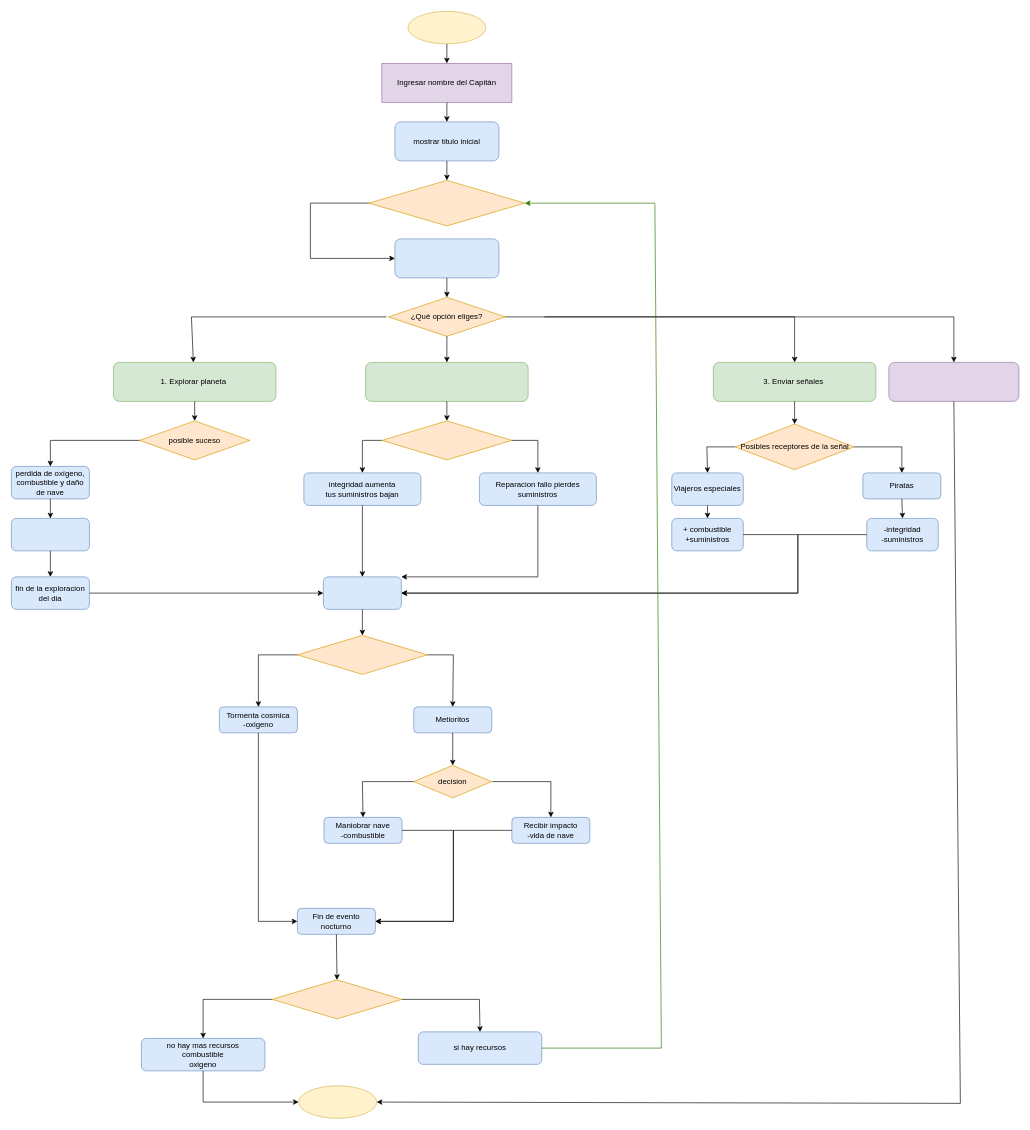
The diagram is 1030 pixels wide and 1130 high, and some of its shapes have lost their labels. Here are the shapes that lost their labels. From the top down, the centre of each, then its label:
the point at 446,27: Inicio
the point at 446,203: ¿día ≤ 10 y recursos > 0?
the point at 446,258: Mostrar menu principal
the point at 446,381: 2. Reparar nave
the point at 953,381: 4. Rendirse
the point at 446,440: Reparar nave
the point at 50,534: encontrar suministros
the point at 362,592: noche
the point at 362,654: ocurre evento nocturno 15% de probabilidad
the point at 336,999: ¿Más días o recursos?
the point at 337,1101: Fin del juego
